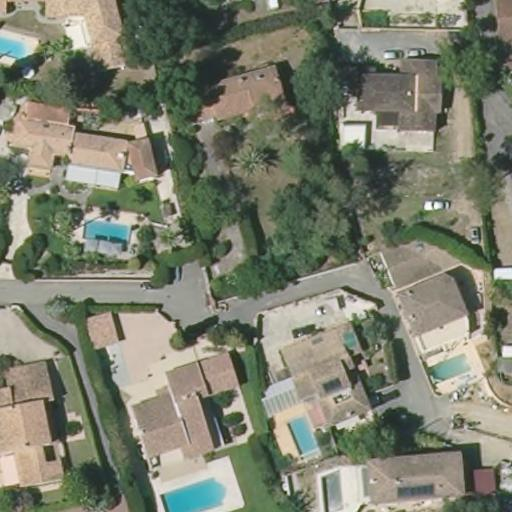pool: (154, 474, 229, 511), (72, 213, 136, 249), (281, 408, 322, 463), (425, 351, 473, 382), (0, 31, 37, 67)
